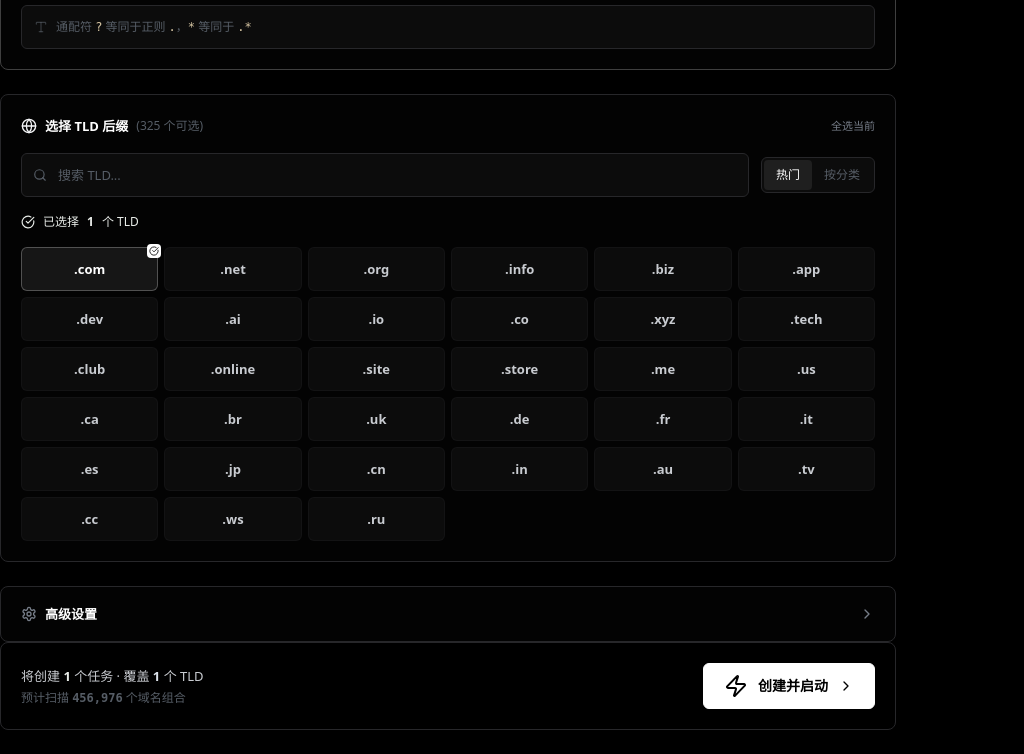
Test: NewTask proxy selection › allows selecting an unchecked proxy
(page scrolled)
Click the text "高级设置": (59, 614) top-left (21, 603), bottom-right (97, 625)
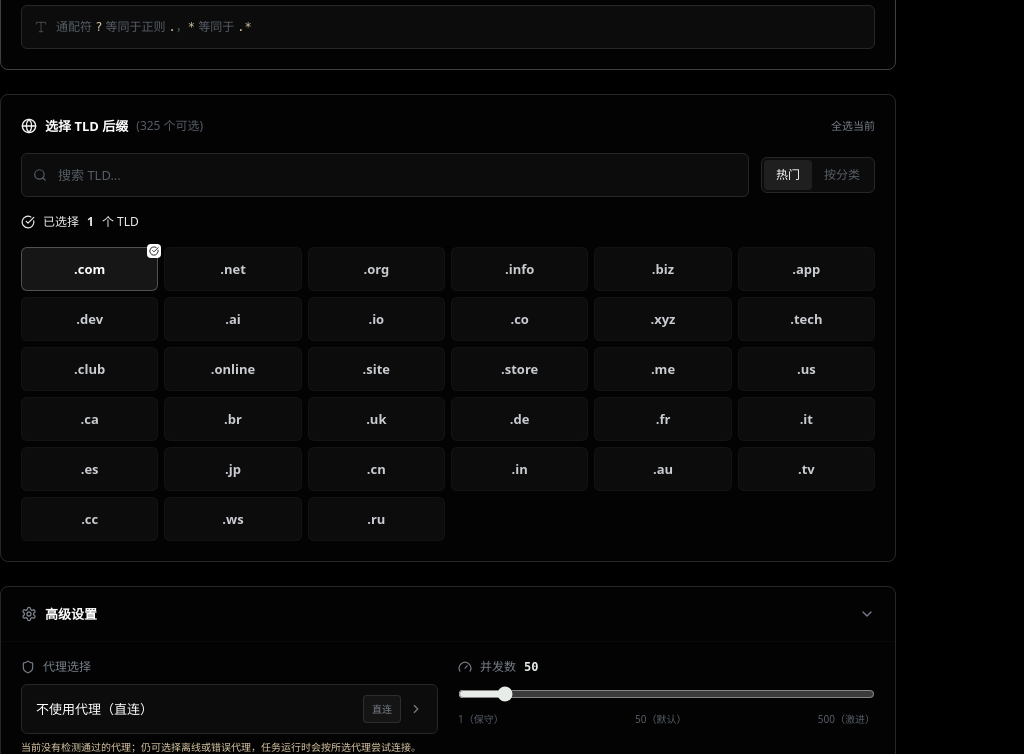
Click the dropdown named "代理选择": (95, 709) top-left (21, 684), bottom-right (438, 734)
(page scrolled)
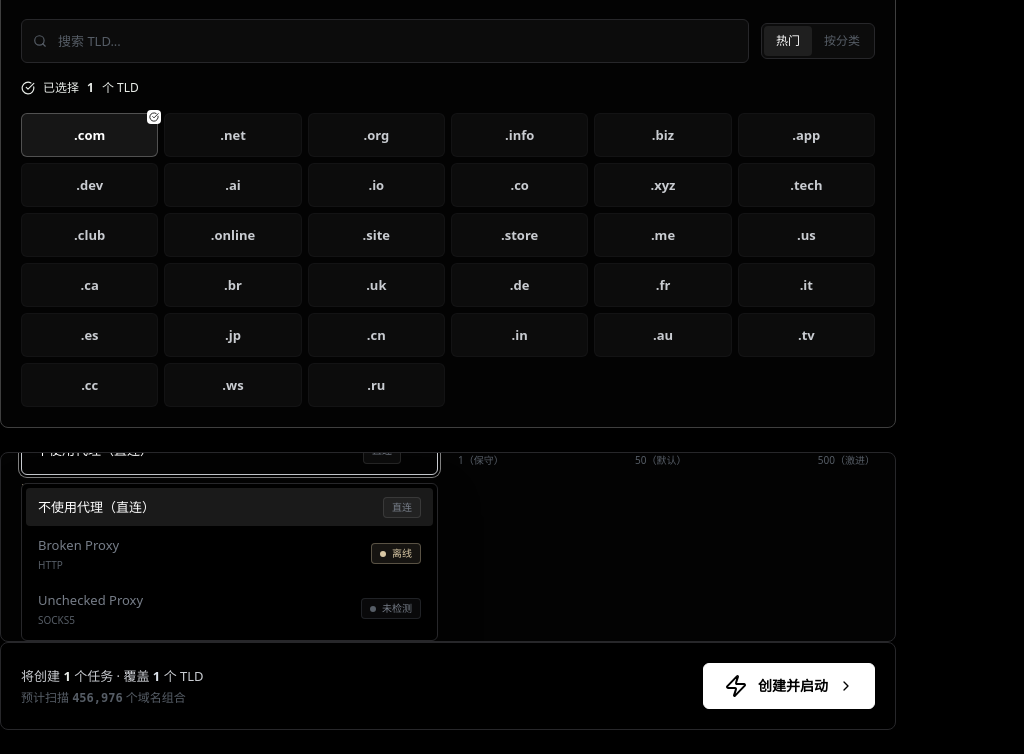
Now the option "Unchecked Proxy socks5 未检测" is shown
Click the option "Unchecked Proxy socks5 未检测": (91, 600) top-left (26, 581), bottom-right (433, 636)
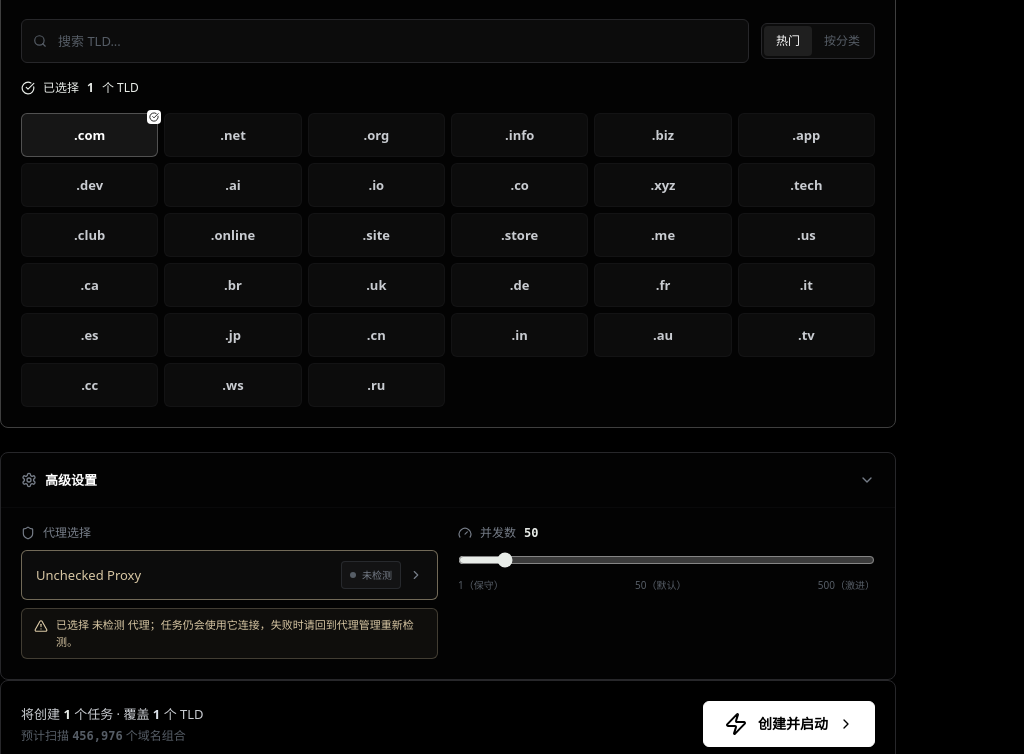
Now the dropdown labelled "Unchecked Proxy 未检测" is shown, box top-left (21, 550), bottom-right (438, 600)
Now the text "已选择 未检测 代理；任务仍会使用它连接，失败时请回到代理管理重新检测。" is shown, box top-left (56, 617), bottom-right (425, 650)
